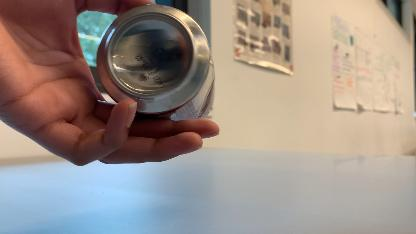Can: (90, 6, 218, 128)
